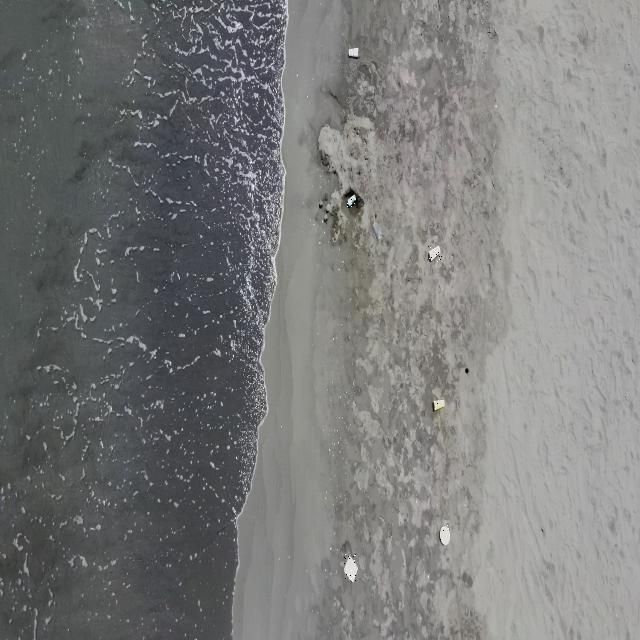take-away-containers: (344, 554, 358, 584), (440, 525, 450, 546)
takeaway-cup: (428, 246, 442, 262), (432, 399, 446, 412), (373, 221, 382, 238), (347, 194, 357, 208), (348, 47, 360, 58)
